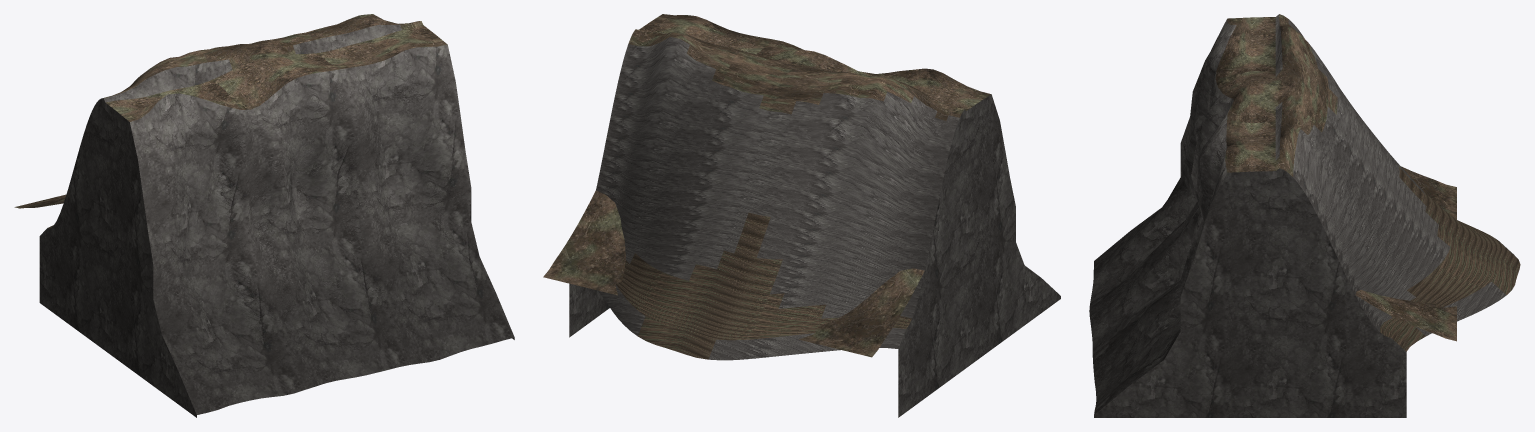
Rendered from seacliff_straight6_h3_v5_autumn.glb.
3 views of the same model, side by side, from view 1: azimuth 30°, elevation 25°; view 2: azimuth 150°, elevation 25°; view 3: azimuth 270°, elevation 25° (orthographic). The views are drawn at different scales.
Parts seen in each view (by area): view 1: seacliff_straight6_h3; view 2: seacliff_straight6_h3; view 3: seacliff_straight6_h3.
Boxes of the visible parts, box(x1,y1,x2,y2) form: seacliff_straight6_h3: box(14, 14, 514, 417); seacliff_straight6_h3: box(543, 14, 1060, 417); seacliff_straight6_h3: box(1089, 14, 1520, 417).
Size of the model in its own units: 6 by 4.87 by 7.09.
Materials: 2 (2 with a texture image).
